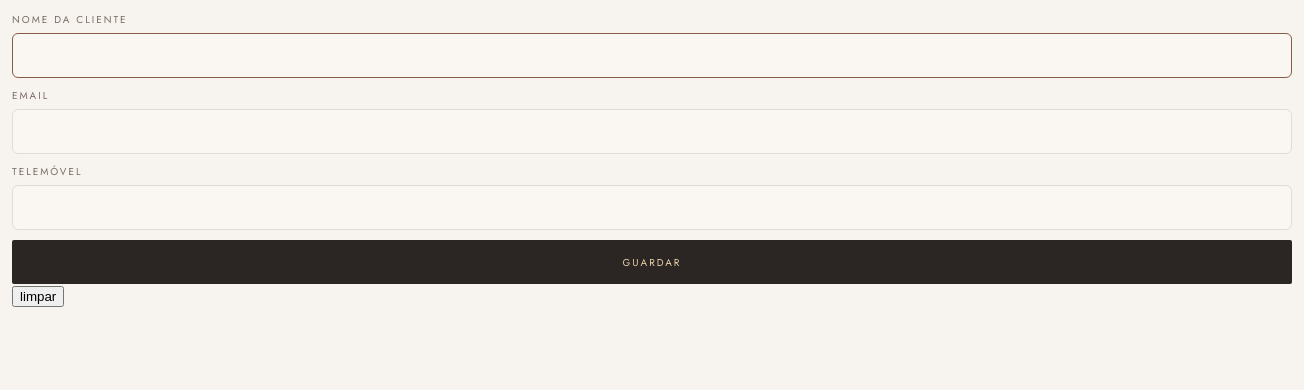
Scenario: ClientForm — the stacked layout the edit sheet hosts › still validates the same way inside the sheet
Click the button "GUARDAR": x=652, y=262 [12,240,1292,284]
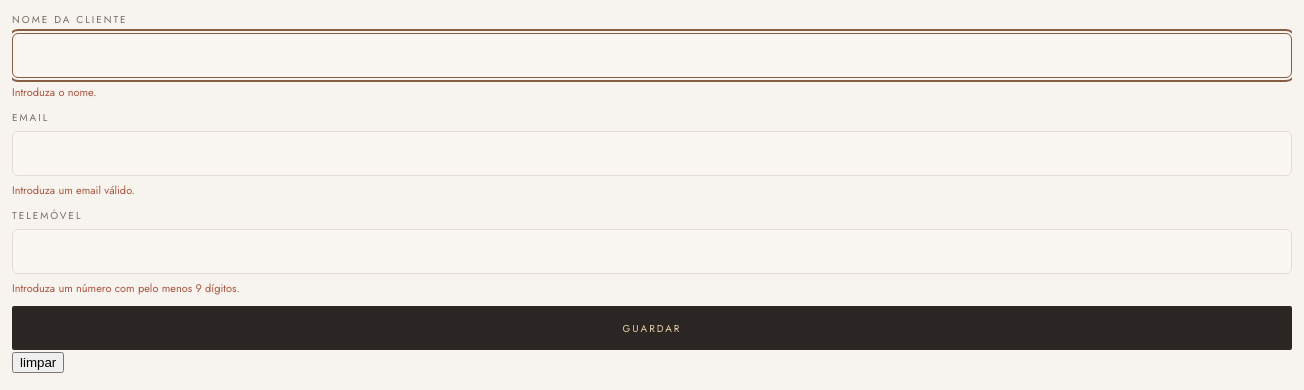
Now the text "Introduza o nome." is shown, box [12,84,96,100]
